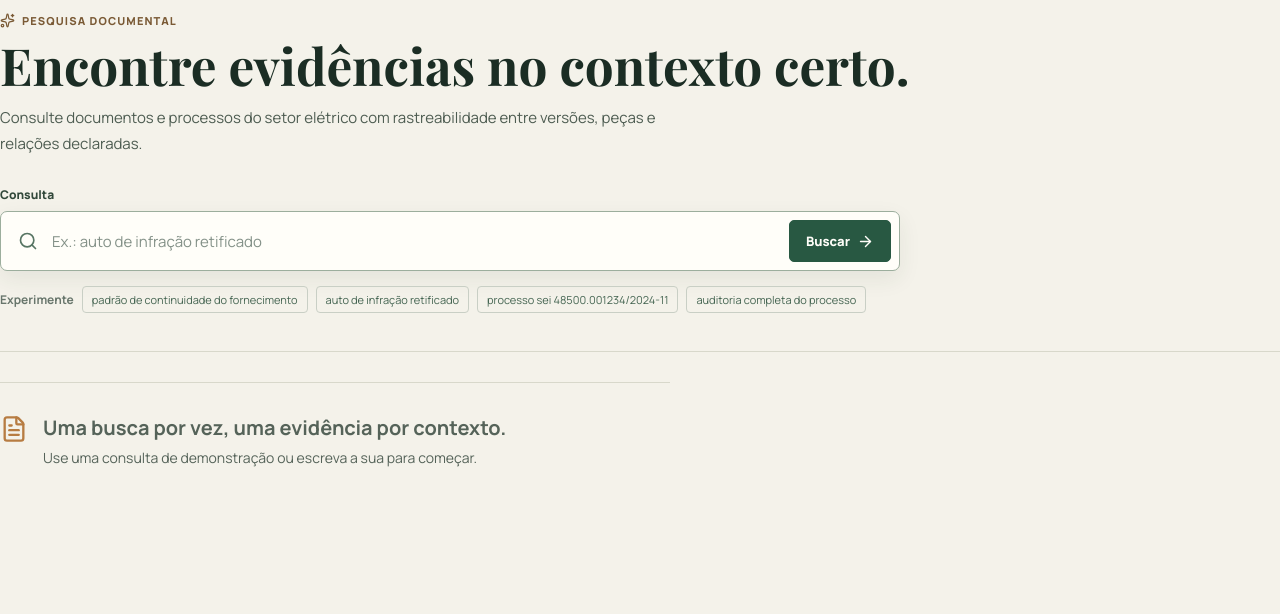
SearchPage › avisa quando o corpus mudou durante a navegação e oferece refazer a busca
This screenshot has width=1280, height=614.
Click the button "auto de infração retificado": coordinates (392, 300) [316,286,469,314]
(page scrolled)
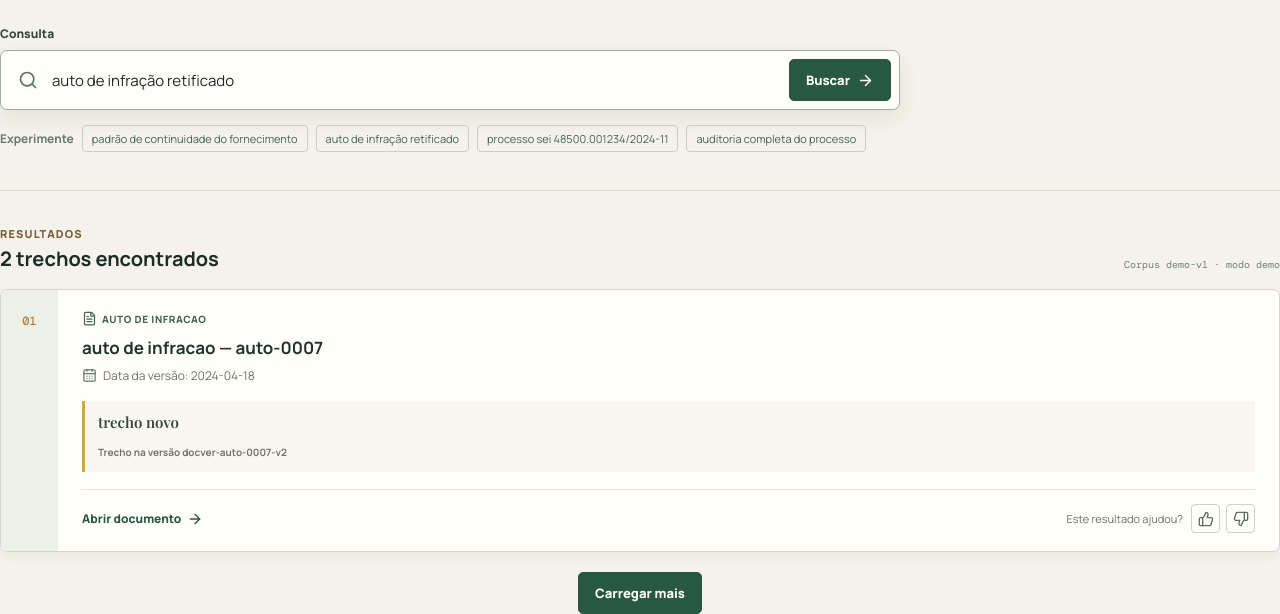
Click the button "Carregar mais": coordinates (640, 593) [578,572,702,613]
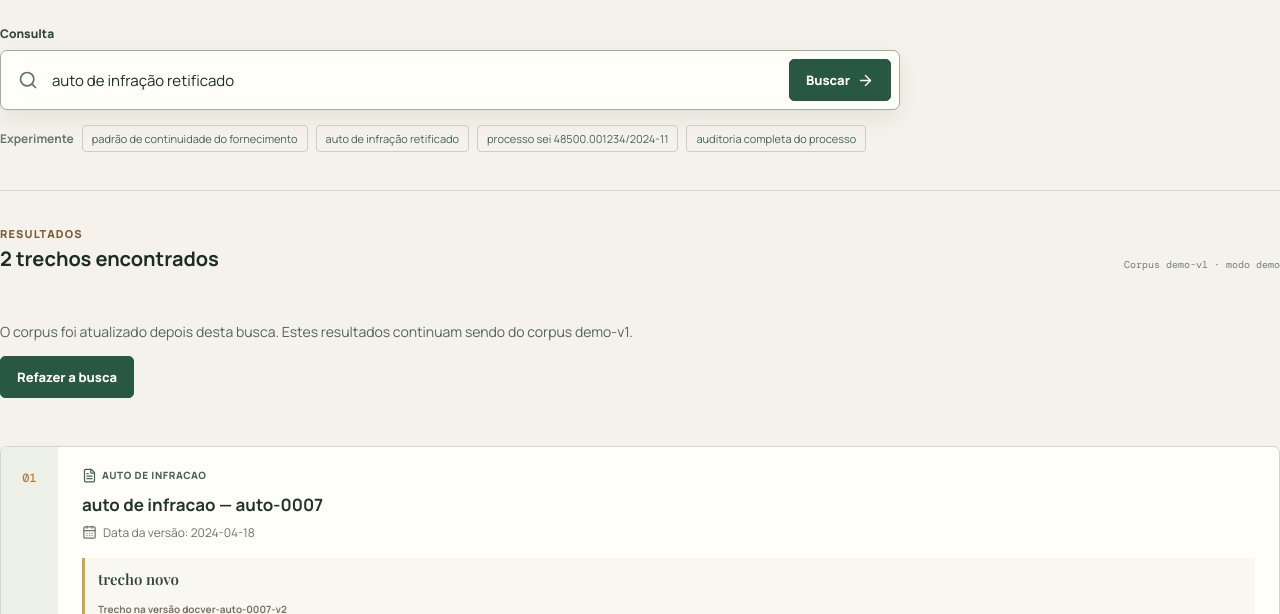
Now the text "O corpus foi atualizado" is shown, box [0,322,575,342]
Click the button "Refazer a busca": coordinates (67, 377) [0,356,134,398]
(page scrolled)
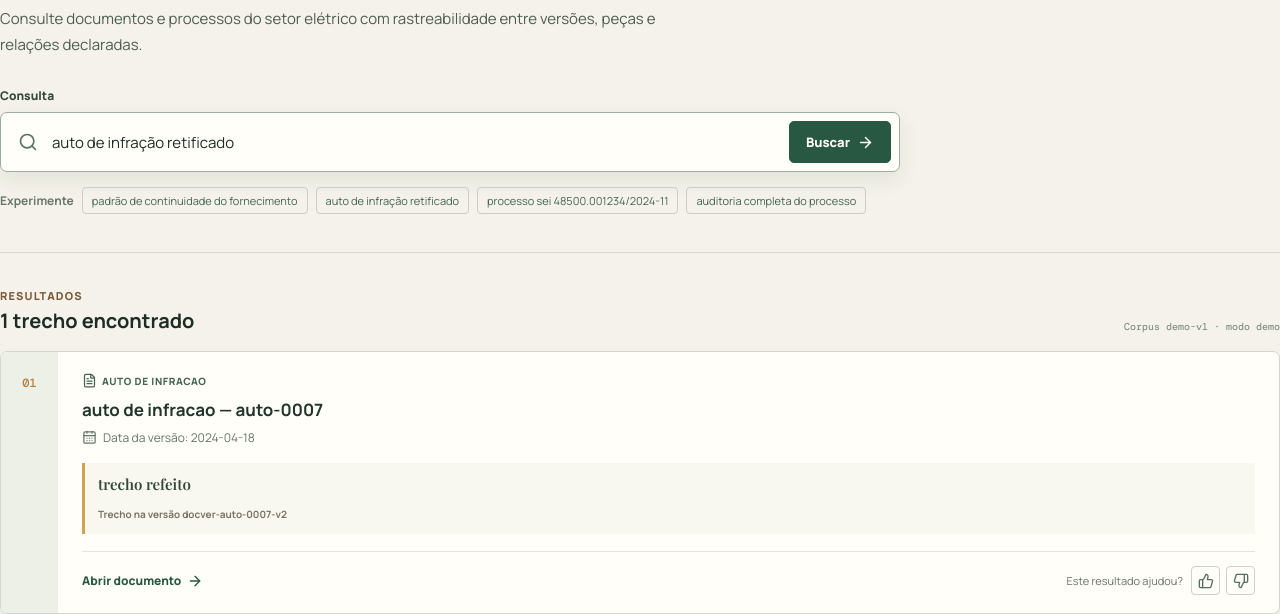
Now the text "trecho refeito" is shown, box [98,474,191,494]
Now the text "O corpus foi atualizado" is gone
